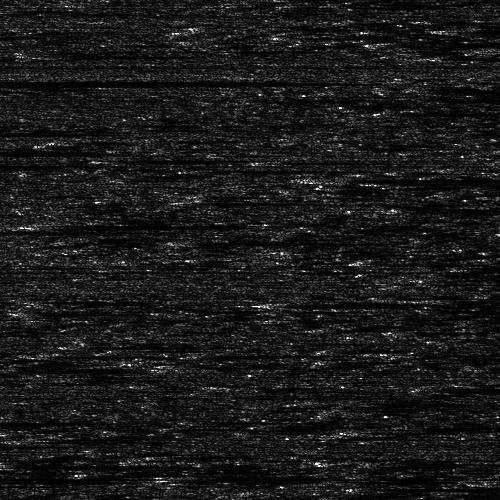object: (454, 152, 500, 179), (452, 467, 500, 486), (442, 42, 500, 53), (23, 219, 76, 230), (464, 225, 500, 238), (283, 176, 346, 181), (251, 300, 282, 305), (414, 297, 455, 300), (61, 343, 102, 346), (201, 348, 212, 357), (0, 462, 16, 467), (0, 148, 5, 153)
shadow: (0, 76, 270, 87), (50, 219, 245, 230), (0, 472, 222, 481), (0, 226, 158, 235), (267, 300, 490, 305), (207, 348, 316, 357), (314, 176, 500, 181), (0, 462, 146, 467), (0, 148, 122, 153), (82, 343, 187, 346), (435, 297, 500, 300), (202, 241, 357, 242), (0, 126, 28, 127)
